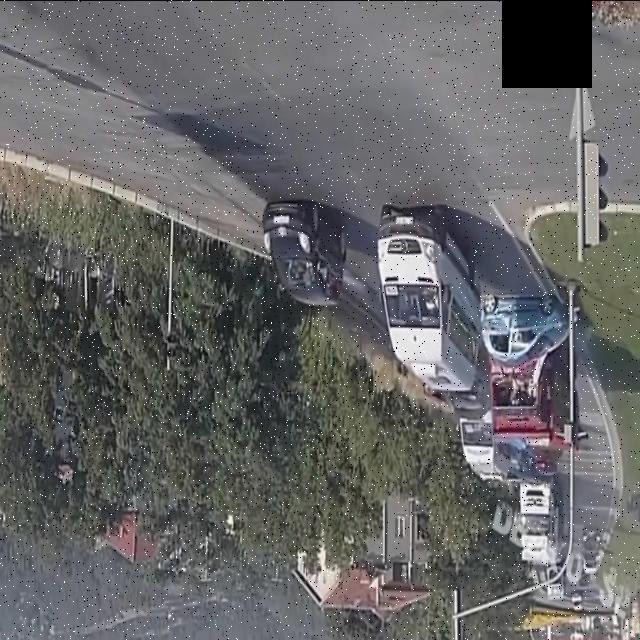vehicle: (478, 276, 578, 460)
